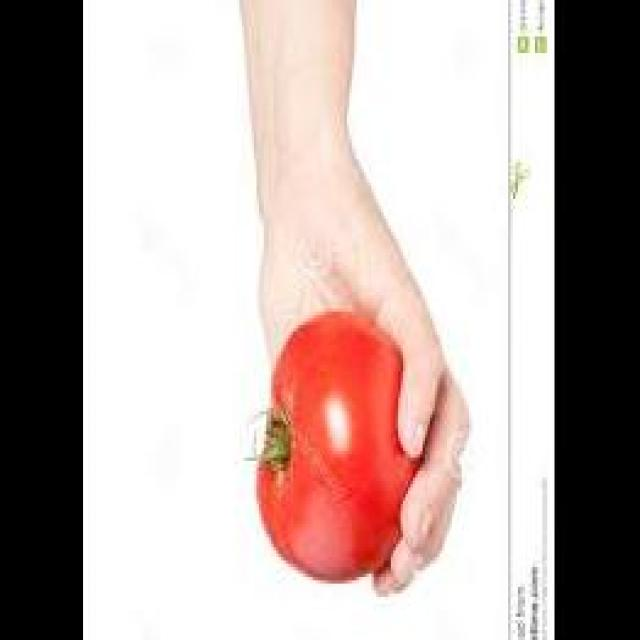Tomato: (245, 308, 440, 584)
